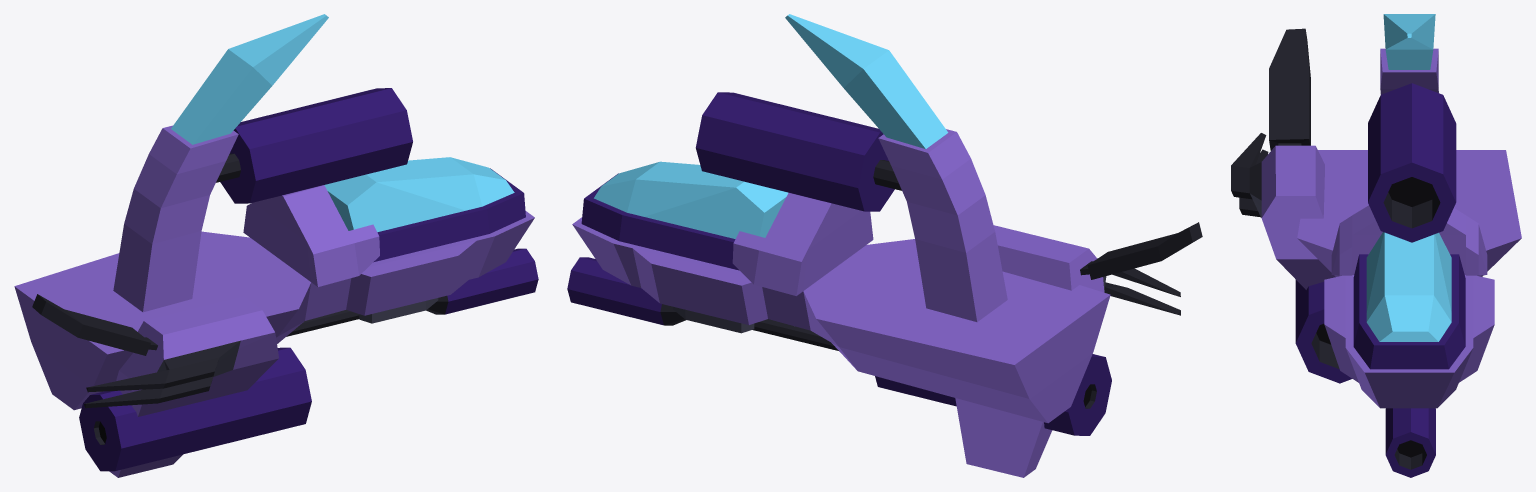
File: spaceship_04.FBX
3 renders of one model, left to right at view 1: azimuth 30°, elevation 25°; view 2: azimuth 150°, elevation 25°; view 3: azimuth 270°, elevation 25°, orthographic. The views are drawn at different scales.
Parts seen in each view (by area): view 1: plane_02_01; view 2: plane_02_01; view 3: plane_02_01.
Boxes of the visible parts, x1,y1,x2,y2 form: plane_02_01: [14, 14, 538, 477]; plane_02_01: [567, 14, 1202, 477]; plane_02_01: [1231, 14, 1521, 477].
Bounding box in the file's own units: 190 × 132 × 84.21.
